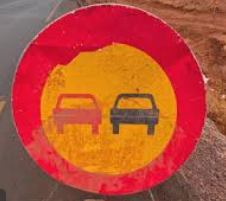No overtake: (20, 7, 194, 187)
